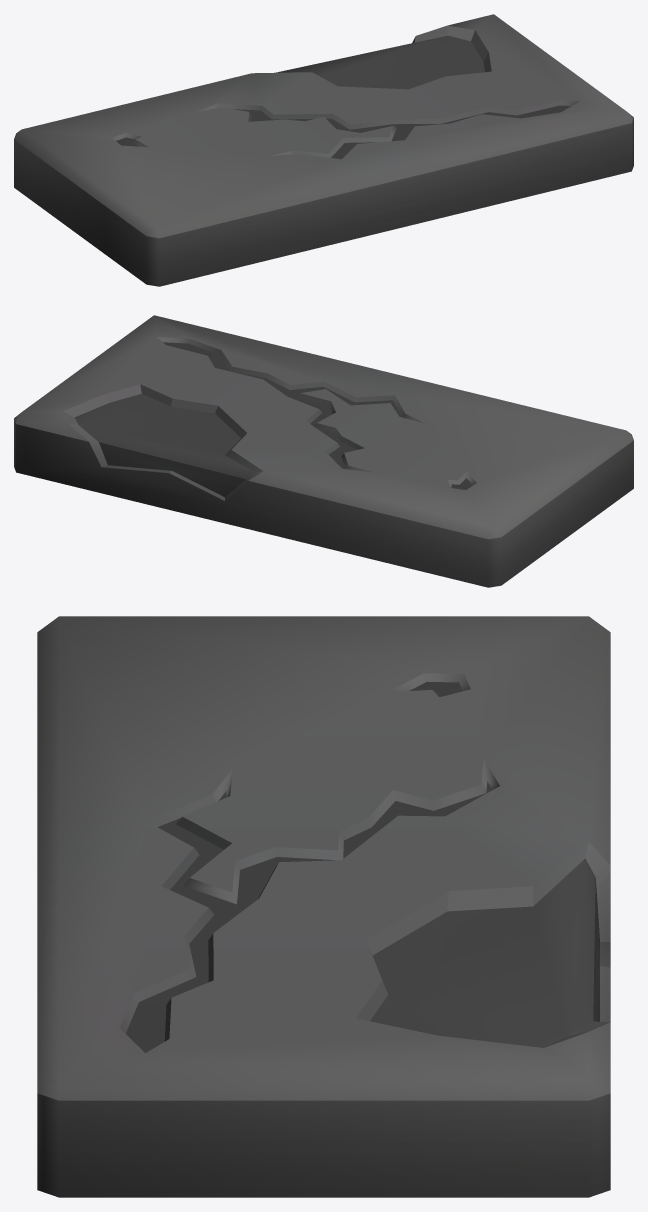
Rendered from Grave_1_2.obj.
3 views of the same model, one above another, from view 1: azimuth 30°, elevation 25°; view 2: azimuth 150°, elevation 25°; view 3: azimuth 270°, elevation 25° (orthographic). The views are drawn at different scales.
Parts seen in each view (by area): view 1: Grave_1_2; view 2: Grave_1_2; view 3: Grave_1_2.
Boxes of the visible parts, x1,y1,x2,y2 form: Grave_1_2: (14,14,633,286); Grave_1_2: (14,315,633,587); Grave_1_2: (37,616,610,1197).
Bounding box in the file's own units: 1.69 × 0.1866 × 0.8601.
